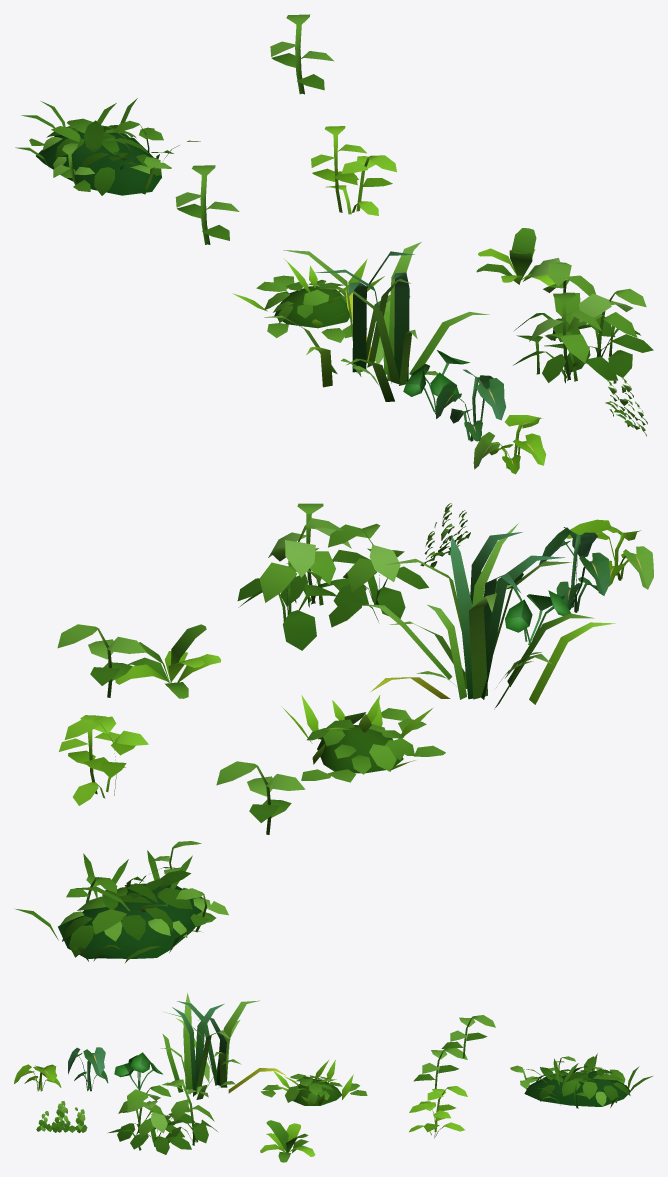
The model's file is RAC_Plants_01.fbx.
3 views of the same model, one above another, from view 1: azimuth 30°, elevation 25°; view 2: azimuth 150°, elevation 25°; view 3: azimuth 270°, elevation 25° (orthographic). The views are drawn at different scales.
Parts seen in each view (by area): view 1: SM_Plants_Misc.007, SM_Plants_Misc.013, SM_Plants_Misc.008, SM_Plants_Misc.004, SM_Plants_Misc.003, SM_Plants_Misc.002, SM_Plants_Misc.001, SM_Plants_Misc, SM_Plants_Misc.006, SM_Plants_Misc.012, SM_Plants_Misc.005, SM_Plants_Misc.009; view 2: SM_Plants_Misc.013, SM_Plants_Misc.007, SM_Plants_Misc.008, SM_Plants_Misc.004, SM_Plants_Misc.003, SM_Plants_Misc, SM_Plants_Misc.002, SM_Plants_Misc.006, SM_Plants_Misc.012, SM_Plants_Misc.001, SM_Plants_Misc.005, SM_Plants_Misc.009; view 3: SM_Plants_Misc.007, SM_Plants_Misc.013, SM_Plants_Misc.008, SM_Plants_Misc.004, SM_Plants_Misc, SM_Plants_Misc.003, SM_Plants_Misc.009, SM_Plants_Misc.002, SM_Plants_Misc.012, SM_Plants_Misc.005, SM_Plants_Misc.006, SM_Plants_Misc.001.
Boxes of the visible parts, x1=… form: SM_Plants_Misc.007: x1=264, y1=242, x2=489, y2=401; SM_Plants_Misc.013: x1=15, y1=98, x2=200, y2=195; SM_Plants_Misc.008: x1=513, y1=258, x2=653, y2=383; SM_Plants_Misc.004: x1=232, y1=259, x2=384, y2=342; SM_Plants_Misc.003: x1=311, y1=126, x2=396, y2=215; SM_Plants_Misc.002: x1=435, y1=369, x2=505, y2=441; SM_Plants_Misc.001: x1=473, y1=415, x2=546, y2=474; SM_Plants_Misc: x1=476, y1=228, x2=555, y2=285; SM_Plants_Misc.006: x1=175, y1=165, x2=239, y2=244; SM_Plants_Misc.012: x1=270, y1=14, x2=333, y2=94; SM_Plants_Misc.005: x1=403, y1=350, x2=469, y2=413; SM_Plants_Misc.009: x1=605, y1=377, x2=647, y2=436; SM_Plants_Misc.013: x1=14, y1=841, x2=228, y2=962; SM_Plants_Misc.007: x1=366, y1=523, x2=615, y2=709; SM_Plants_Misc.008: x1=237, y1=503, x2=428, y2=650; SM_Plants_Misc.004: x1=281, y1=695, x2=445, y2=782; SM_Plants_Misc.003: x1=59, y1=715, x2=148, y2=805; SM_Plants_Misc: x1=115, y1=624, x2=220, y2=698; SM_Plants_Misc.002: x1=539, y1=527, x2=609, y2=612; SM_Plants_Misc.006: x1=216, y1=761, x2=305, y2=834; SM_Plants_Misc.012: x1=57, y1=624, x2=146, y2=697; SM_Plants_Misc.001: x1=566, y1=519, x2=653, y2=589; SM_Plants_Misc.005: x1=495, y1=573, x2=571, y2=645; SM_Plants_Misc.009: x1=420, y1=503, x2=470, y2=567; SM_Plants_Misc.007: x1=160, y1=992, x2=286, y2=1099; SM_Plants_Misc.013: x1=510, y1=1053, x2=652, y2=1108; SM_Plants_Misc.008: x1=107, y1=1079, x2=217, y2=1154; SM_Plants_Misc.004: x1=261, y1=1059, x2=367, y2=1105; SM_Plants_Misc: x1=260, y1=1120, x2=315, y2=1162; SM_Plants_Misc.003: x1=409, y1=1086, x2=467, y2=1138; SM_Plants_Misc.009: x1=36, y1=1101, x2=87, y2=1132; SM_Plants_Misc.002: x1=68, y1=1047, x2=108, y2=1091; SM_Plants_Misc.012: x1=441, y1=1015, x2=495, y2=1057; SM_Plants_Misc.005: x1=114, y1=1052, x2=162, y2=1090; SM_Plants_Misc.006: x1=413, y1=1048, x2=467, y2=1088; SM_Plants_Misc.001: x1=14, y1=1064, x2=61, y2=1091.
Size of the model in its own units: 5.16 by 2.66 by 12.94.
